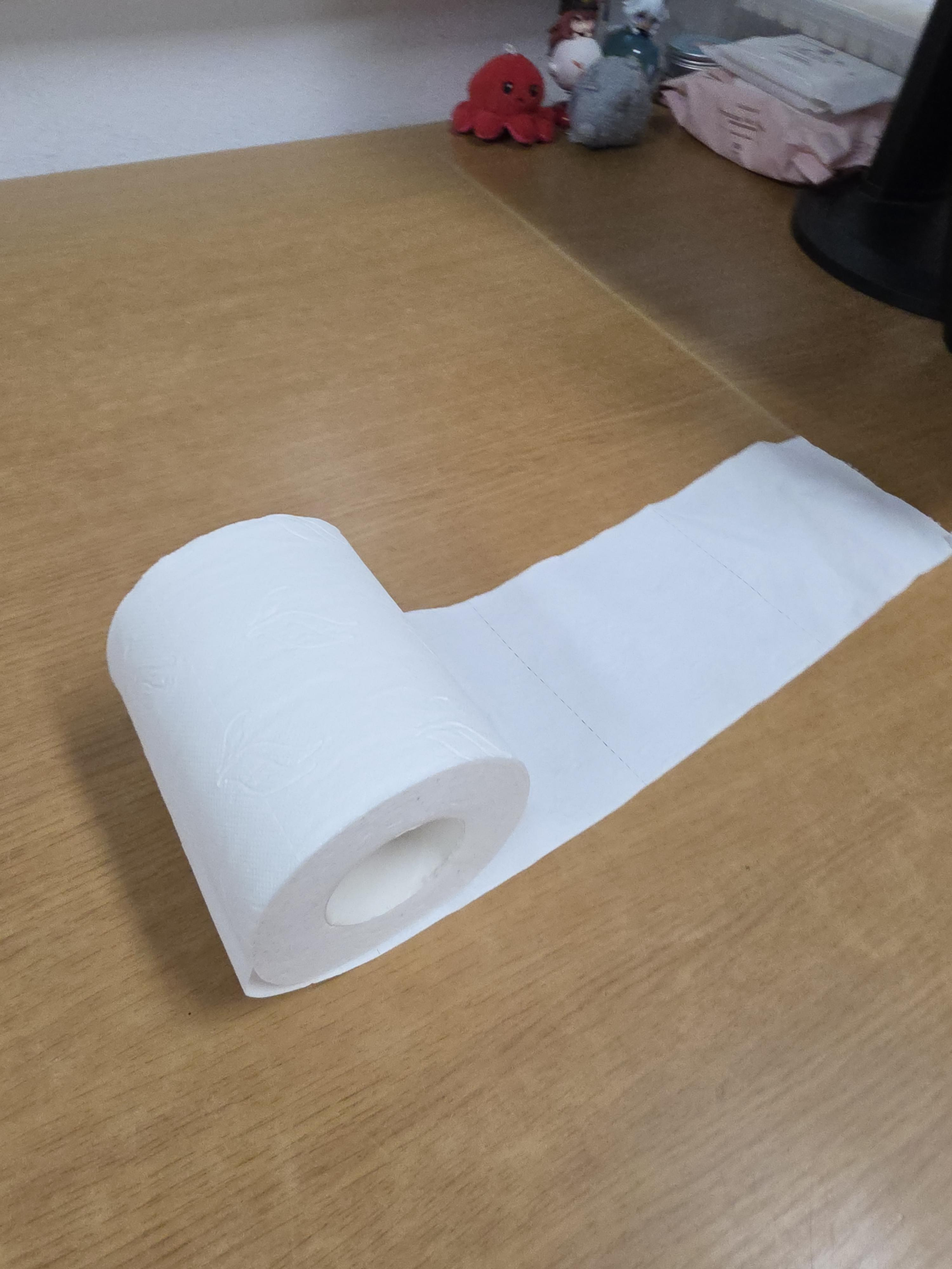tissue: (106, 435, 951, 998)
